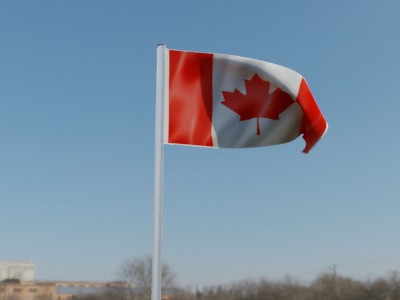Canada flag: (165, 49, 331, 157)
